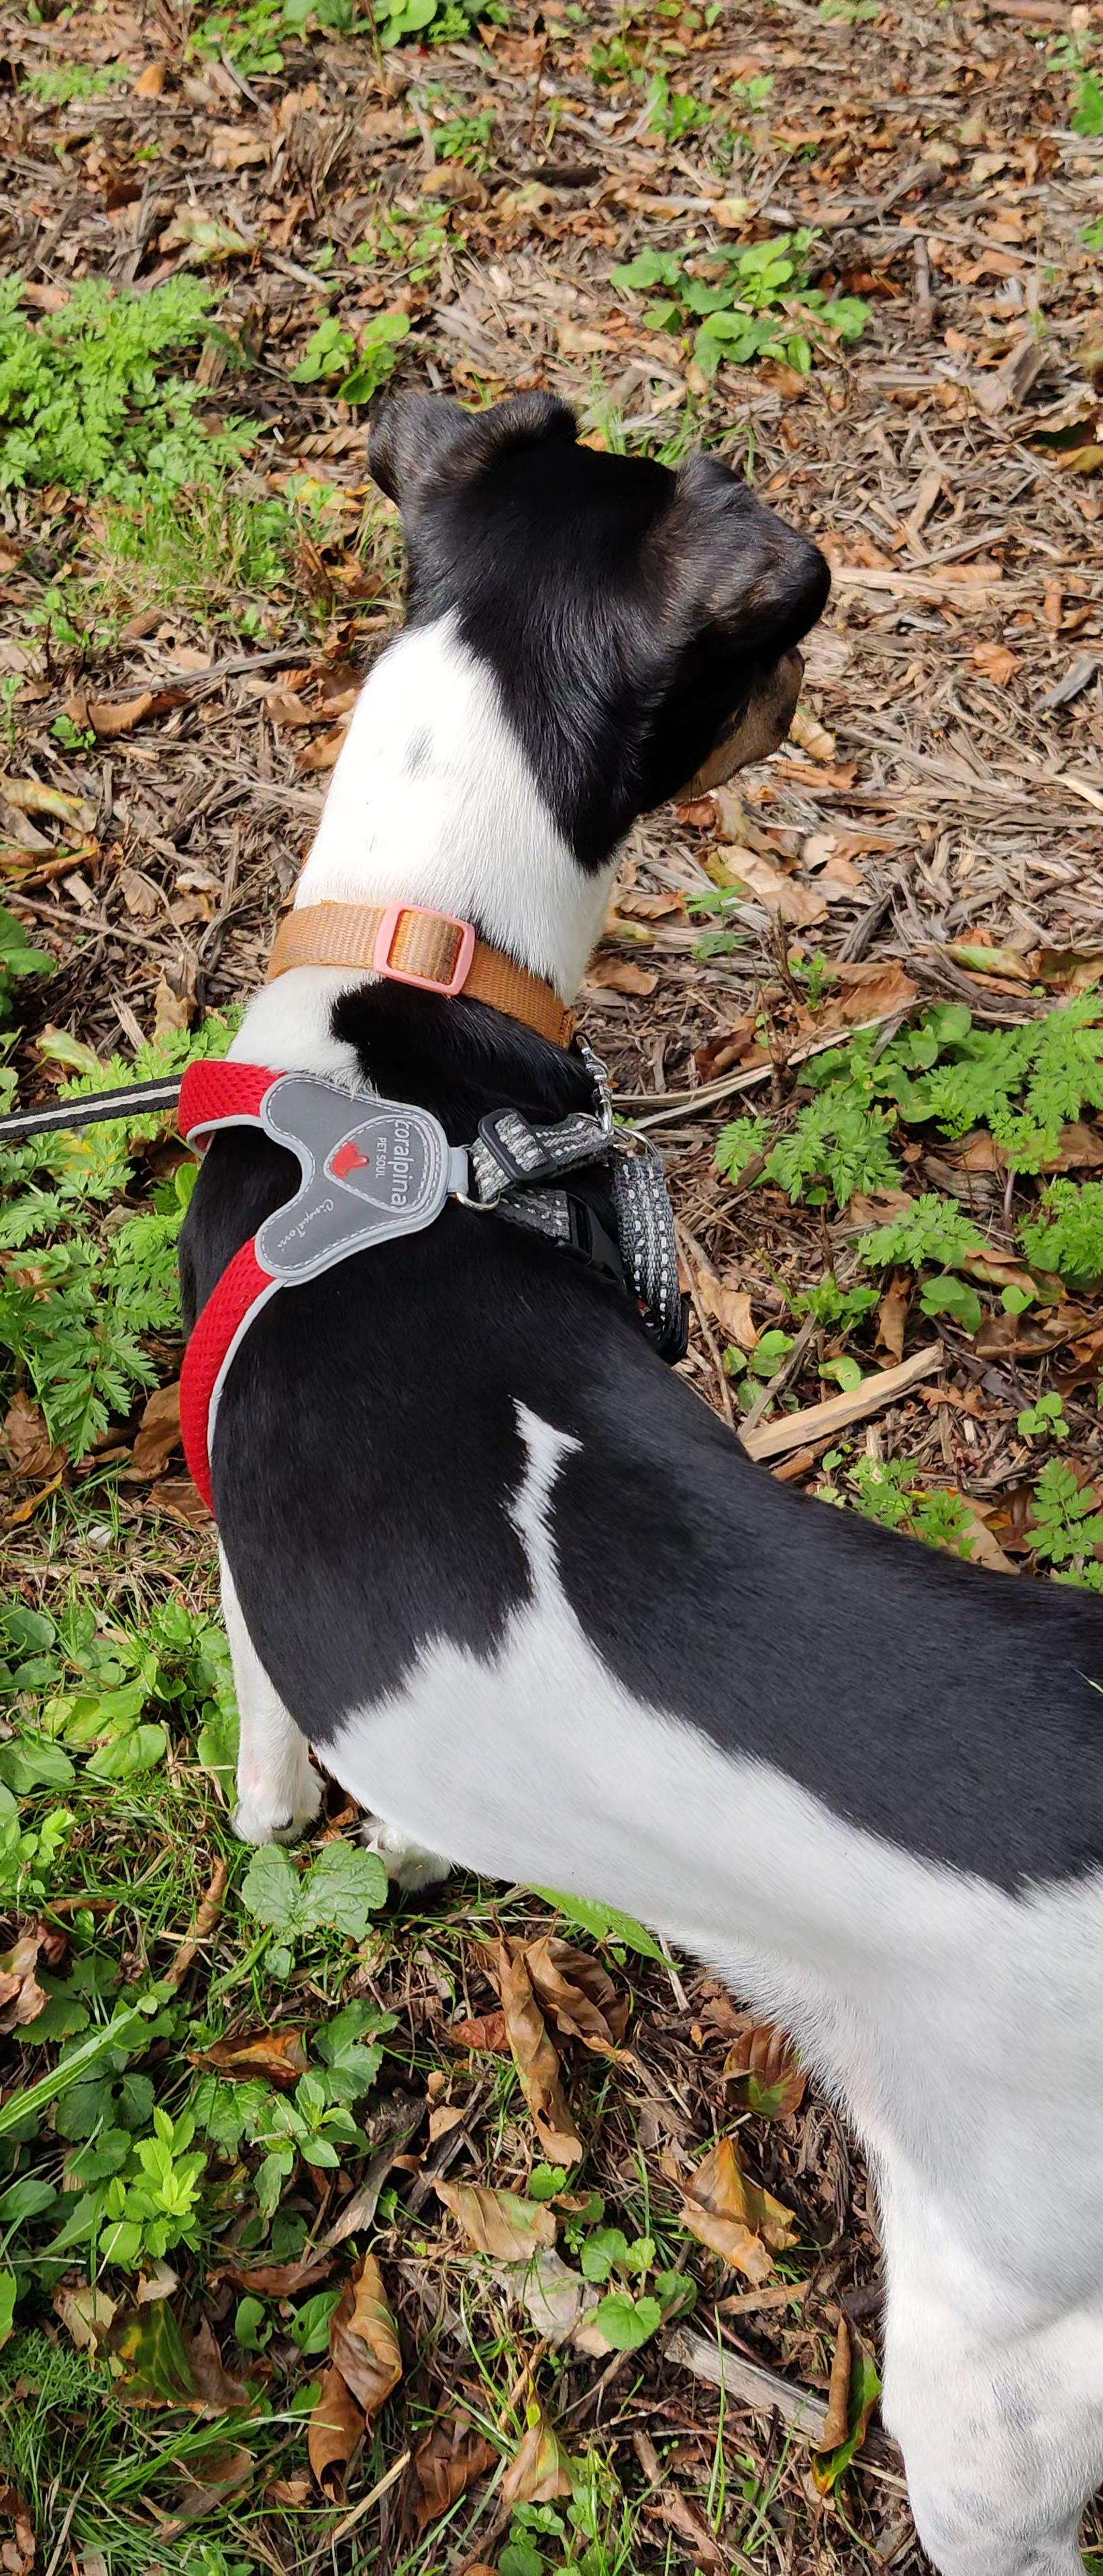Dog: (113, 338, 1103, 2576)
